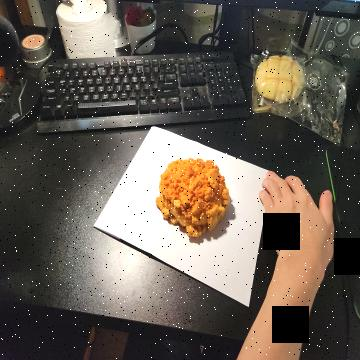soboru_bread: (157, 156, 231, 239)
